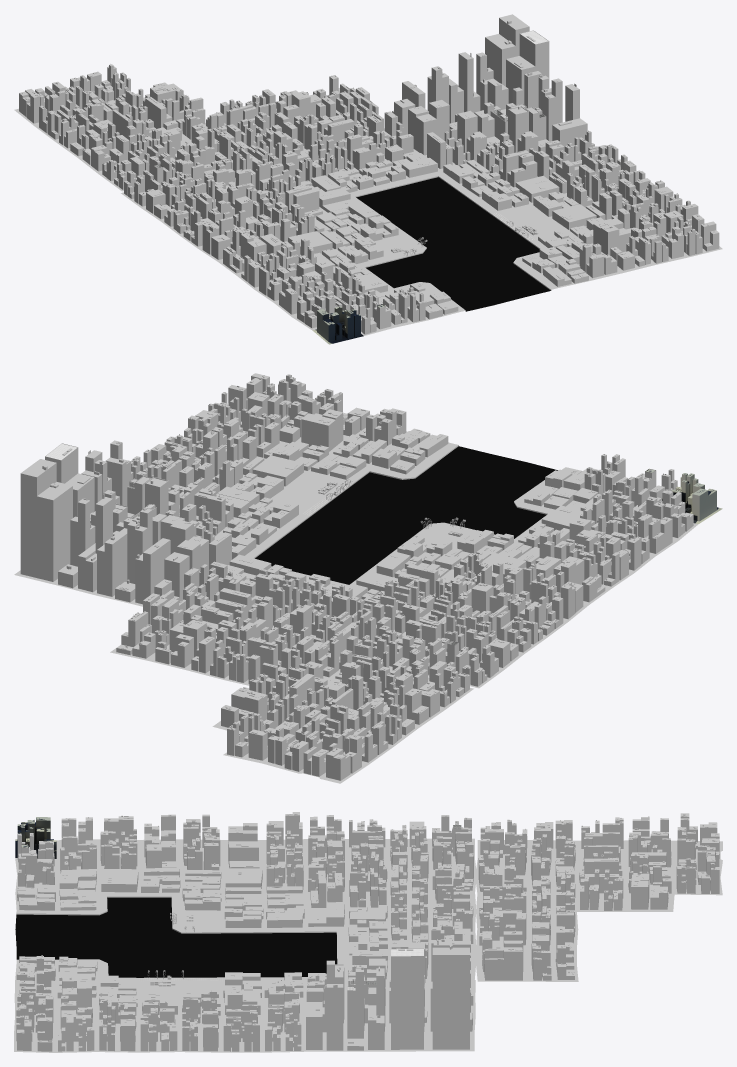
The model's file is ciudad_20.DAE.
3 views of the same model, one above another, from view 1: azimuth 30°, elevation 25°; view 2: azimuth 150°, elevation 25°; view 3: azimuth 270°, elevation 25° (orthographic). The views are drawn at different scales.
Visible parts, largest first — view 1: Object07, Object05, Object02, Object105, Object106, Object104, Object06, edificios_camara06, Object04, Object, Object55, Object123 (+99 smaller); view 2: Object07, Object105, Object05, Object103, Object104, Object102, Object08, Object112, Object108, Object132, Object20, Object109 (+95 smaller); view 3: Object07, Object05, Object105, Object106, Object02, Object107, Object110, Object60, Object64, Object124, Object55, Object132 (+109 smaller).
Part boxes in pixels (box(x1,y1,x2,y2)): Object07: box(356, 177, 550, 311); Object05: box(350, 171, 565, 311); Object02: box(541, 78, 587, 146); Object105: box(485, 14, 529, 86); Object106: box(506, 34, 549, 104); Object104: box(457, 52, 496, 113); Object06: box(408, 100, 449, 156); edificios_camara06: box(490, 104, 546, 152); Object04: box(457, 110, 499, 161); Object: box(312, 306, 363, 344); Object55: box(674, 214, 722, 257); Object123: box(78, 131, 129, 173); Object07: box(255, 446, 557, 584); Object105: box(14, 459, 72, 584); Object05: box(246, 443, 560, 586); Object103: box(93, 507, 152, 603); Object104: box(55, 494, 112, 594); Object102: box(131, 538, 189, 606); Object08: box(300, 727, 367, 783); Object112: box(187, 627, 247, 680); Object108: box(110, 611, 171, 660); Object132: box(223, 712, 278, 763); Object20: box(579, 534, 633, 588); Object109: box(149, 619, 206, 670); Object07: box(15, 897, 337, 977); Object05: box(16, 893, 347, 998); Object105: box(428, 945, 474, 1051); Object106: box(386, 949, 428, 1051); Object02: box(304, 960, 345, 1051); Object107: box(345, 966, 386, 1051); Object110: box(476, 938, 530, 981); Object60: box(138, 1007, 179, 1052); Object64: box(221, 1009, 262, 1052); Object124: box(577, 869, 626, 911); Object55: box(14, 1008, 55, 1052); Object132: box(672, 855, 722, 895).
Bounding box in the file's own units: 14698 × 20540 × 3142.
